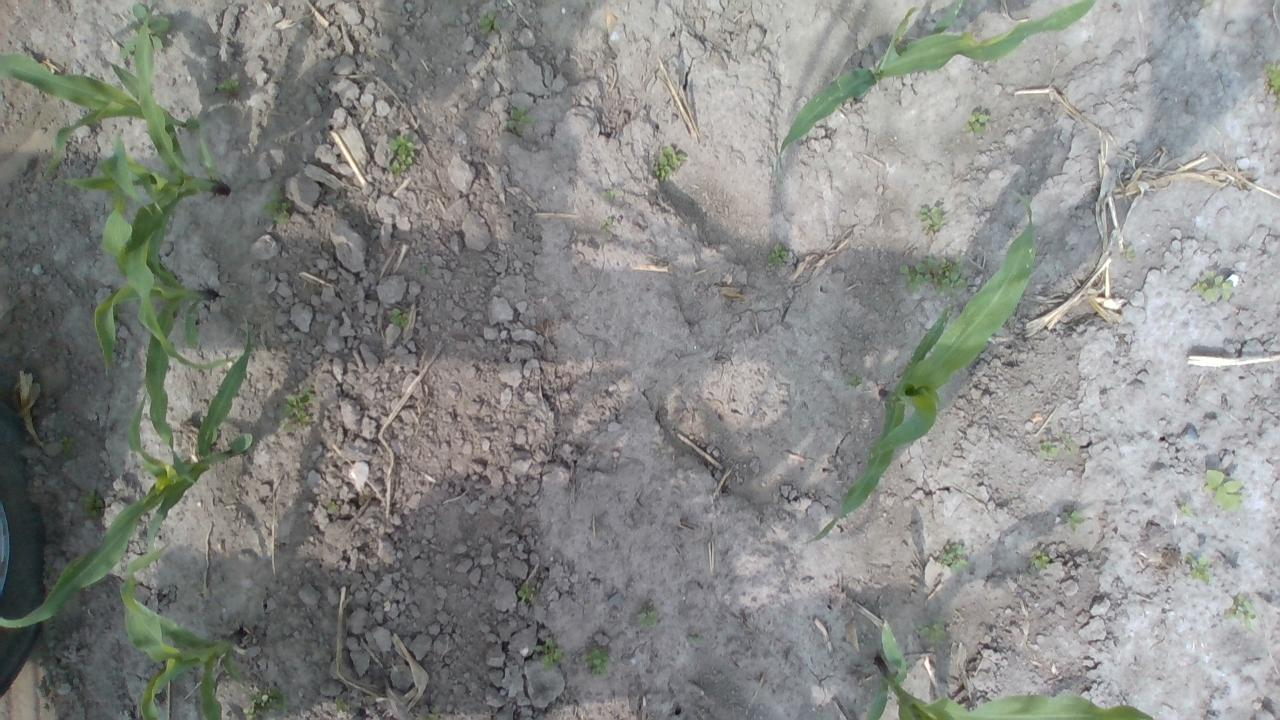Maize: (800, 190, 1040, 554), (1, 316, 255, 632), (776, 2, 1096, 172), (68, 19, 230, 284), (1, 3, 194, 176), (91, 224, 223, 458), (862, 616, 1156, 720), (120, 545, 252, 719)
Weeds: (128, 4, 170, 55), (896, 260, 965, 290), (1206, 466, 1238, 507), (282, 391, 309, 432), (1191, 275, 1231, 301), (54, 422, 80, 458), (389, 137, 416, 170), (251, 693, 282, 718), (652, 151, 678, 180), (266, 186, 286, 222), (1189, 556, 1209, 582), (540, 640, 560, 666), (939, 545, 966, 564), (920, 206, 942, 228), (590, 651, 612, 673), (80, 490, 100, 513), (921, 624, 943, 642), (1238, 600, 1256, 622), (507, 111, 530, 128), (1266, 62, 1278, 94), (970, 114, 990, 133), (637, 609, 654, 628), (219, 79, 236, 96), (1038, 442, 1053, 461), (479, 15, 493, 34), (1066, 510, 1085, 524), (518, 587, 532, 604), (771, 246, 786, 261), (389, 311, 404, 326), (1030, 552, 1044, 564), (686, 633, 699, 642)
